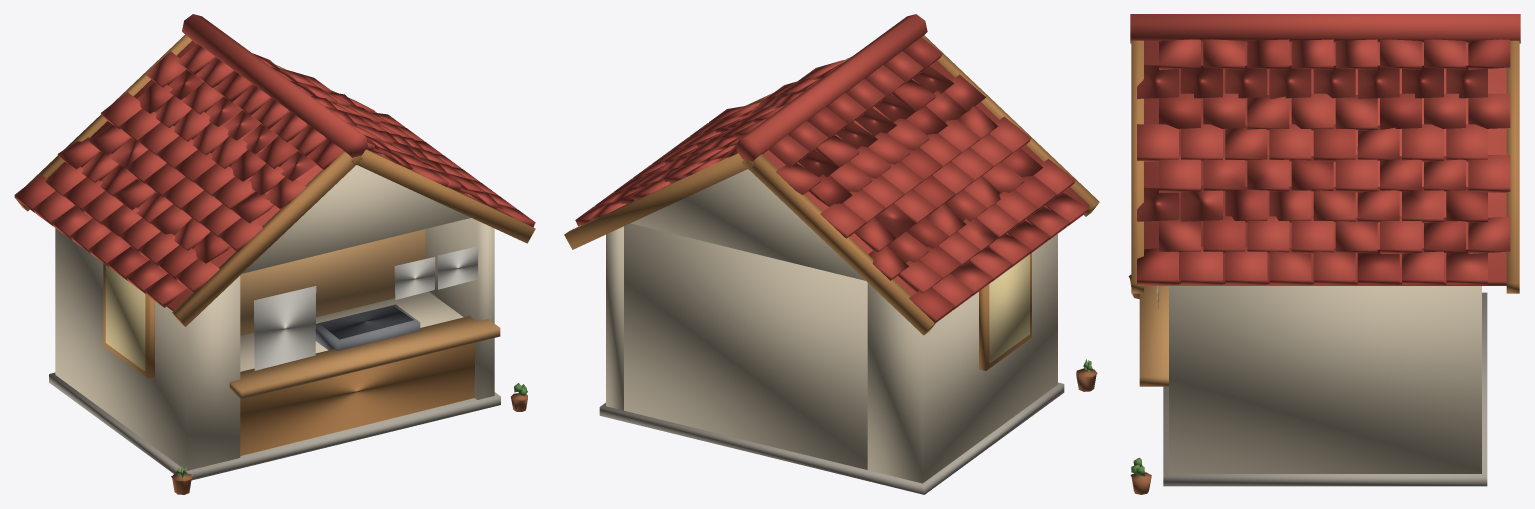
The model's file is takoyaki.glb.
3 views of the same model, side by side, from view 1: azimuth 30°, elevation 25°; view 2: azimuth 150°, elevation 25°; view 3: azimuth 270°, elevation 25° (orthographic). The views are drawn at different scales.
Visible parts, largest first — view 1: takoyaki; view 2: takoyaki; view 3: takoyaki.
Part boxes in pixels (x1=…): takoyaki: x1=14, y1=14, x2=535, y2=494; takoyaki: x1=564, y1=14, x2=1099, y2=494; takoyaki: x1=1128, y1=14, x2=1520, y2=494.
Size of the model in its own units: 2.71 by 2.28 by 2.13.
